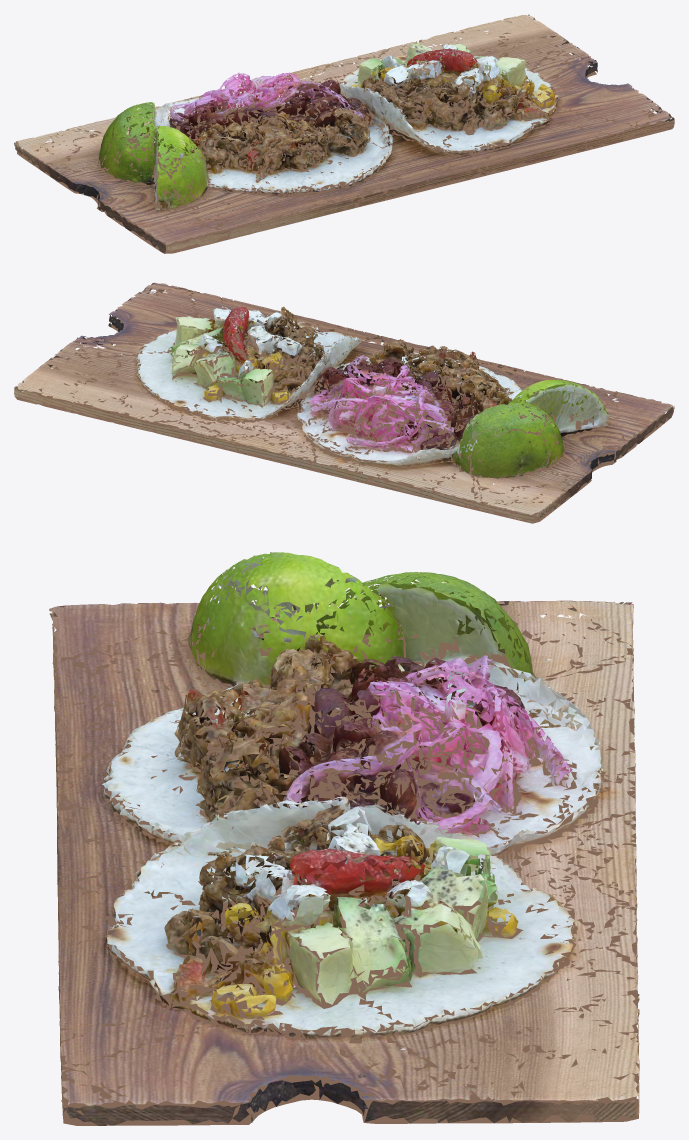
Rendered from tacos.gltf.
The picture shows the model from 3 angles, top to bottom: view 1: azimuth 30°, elevation 25°; view 2: azimuth 150°, elevation 25°; view 3: azimuth 270°, elevation 25°; orthographic projection. The views are drawn at different scales.
Parts seen in each view (by area): view 1: Object_2, Object_3, Object_4; view 2: Object_2, Object_3, Object_4; view 3: Object_2, Object_3, Object_4.
Part boxes in pixels (left/top/right/bottom): Object_2: left=17, top=20, right=674, bottom=253; Object_3: left=32, top=44, right=500, bottom=229; Object_4: left=14, top=14, right=671, bottom=252; Object_2: left=17, top=282, right=671, bottom=523; Object_3: left=132, top=329, right=625, bottom=506; Object_4: left=14, top=283, right=674, bottom=523; Object_2: left=52, top=618, right=639, bottom=1125; Object_3: left=54, top=552, right=638, bottom=994; Object_4: left=49, top=553, right=639, bottom=1123.
Bounding box in the file's own units: 0.38 × 0.0455 × 0.1869.
Materials: 1 (1 with a texture image).
